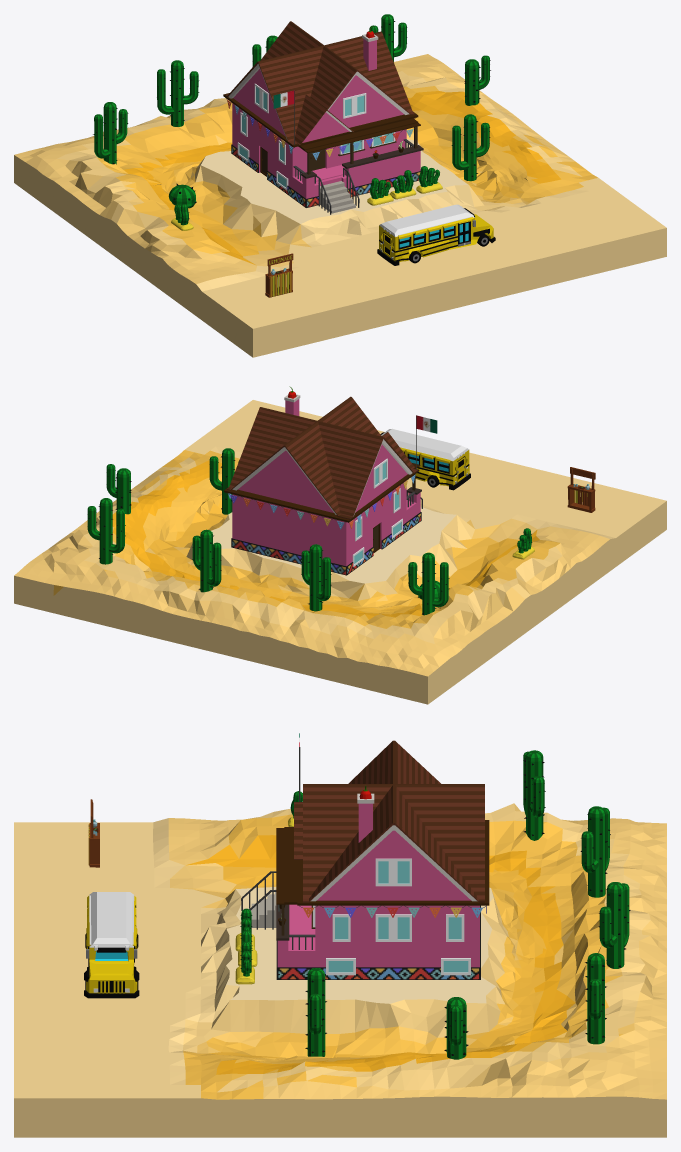
The picture shows the model from 3 angles, top to bottom: view 1: azimuth 30°, elevation 25°; view 2: azimuth 150°, elevation 25°; view 3: azimuth 270°, elevation 25°; orthographic projection. The views are drawn at different scales.
Visible parts, largest first — view 1: Cube.001, Cube.1005, VEHICLES_SCHOOL_BUS, Cylinder.044, Cylinder.037, Cylinder.045, Cylinder.038, OBJRANDOM_LEMONADE_STAND, Cylinder.042, Cylinder.039, Cylinder.041; view 2: Cube.001, Cube.1005, VEHICLES_SCHOOL_BUS, Cylinder.042, Cylinder.045, Cylinder.044, Cylinder.043, Cylinder.037, OBJRANDOM_LEMONADE_STAND, Cylinder.038; view 3: Cube.001, Cube.1005, VEHICLES_SCHOOL_BUS, Cylinder.043, Cylinder.044, Cylinder.045, Cylinder.037, Cylinder.042, Cylinder.038, OBJRANDOM_LEMONADE_STAND, Cylinder.041.
Part boxes in pixels (bbox=[...]): Cube.001: bbox=[14, 54, 666, 357]; Cube.1005: bbox=[223, 21, 423, 214]; VEHICLES_SCHOOL_BUS: bbox=[377, 204, 495, 265]; Cylinder.044: bbox=[157, 60, 199, 126]; Cylinder.037: bbox=[451, 114, 490, 181]; Cylinder.045: bbox=[93, 102, 128, 164]; Cylinder.038: bbox=[464, 55, 490, 105]; OBJRANDOM_LEMONADE_STAND: bbox=[265, 253, 293, 297]; Cylinder.042: bbox=[369, 14, 407, 61]; Cylinder.039: bbox=[367, 178, 393, 205]; Cylinder.041: bbox=[416, 166, 442, 193]; Cube.001: bbox=[14, 400, 666, 704]; Cube.1005: bbox=[224, 386, 437, 575]; VEHICLES_SCHOOL_BUS: bbox=[380, 429, 470, 490]; Cylinder.042: bbox=[87, 498, 125, 564]; Cylinder.045: bbox=[408, 552, 449, 615]; Cylinder.044: bbox=[301, 544, 331, 611]; Cylinder.043: bbox=[192, 529, 221, 592]; Cylinder.037: bbox=[209, 448, 239, 514]; OBJRANDOM_LEMONADE_STAND: bbox=[567, 467, 595, 512]; Cylinder.038: bbox=[106, 464, 131, 514]; Cube.001: bbox=[14, 803, 666, 1137]; Cube.1005: bbox=[241, 733, 489, 979]; VEHICLES_SCHOOL_BUS: bbox=[84, 892, 139, 998]; Cylinder.043: bbox=[598, 882, 630, 968]; Cylinder.044: bbox=[580, 806, 610, 897]; Cylinder.045: bbox=[523, 750, 545, 840]; Cylinder.037: bbox=[305, 968, 326, 1056]; Cylinder.042: bbox=[585, 953, 606, 1044]; Cylinder.038: bbox=[444, 997, 468, 1059]; OBJRANDOM_LEMONADE_STAND: bbox=[88, 799, 99, 867]; Cylinder.041: bbox=[235, 941, 254, 984].
Size of the model in its own units: 4002 by 1713 by 4001.
73 materials, 4 textured.
